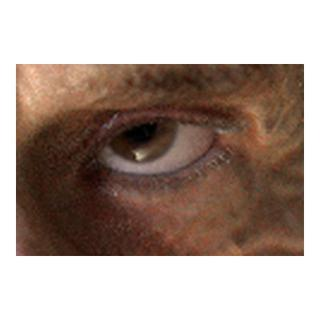pupil: (123, 109, 155, 142)
